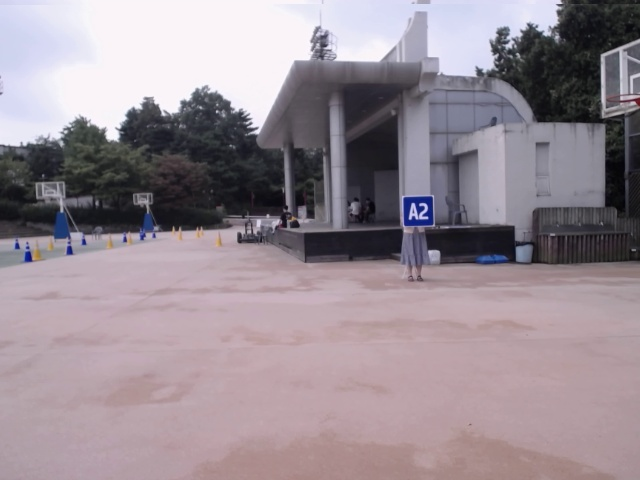delivery_a2: (403, 196, 434, 227)
